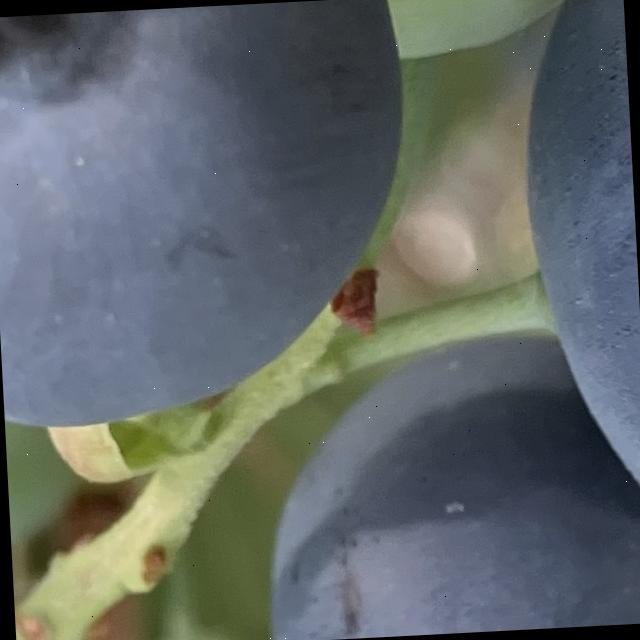Blueberries: (0, 0, 421, 434)
